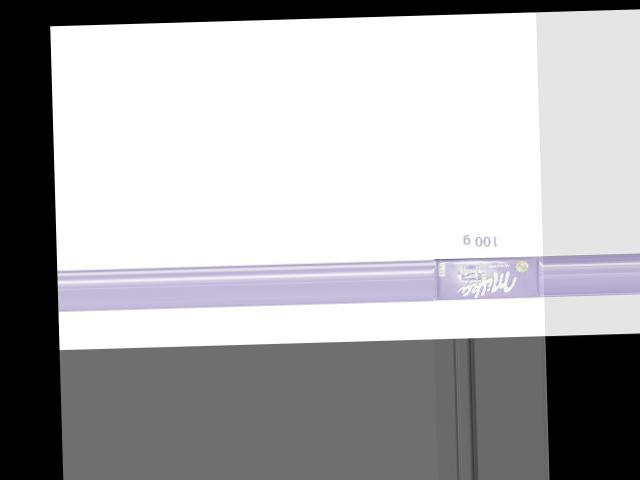chocolate: (430, 248, 541, 301)
